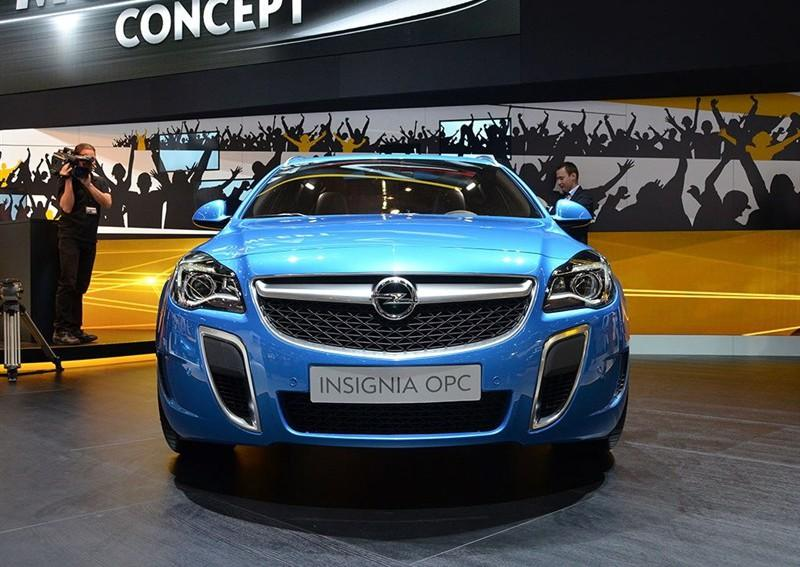Wagon: (155, 152, 632, 457)
